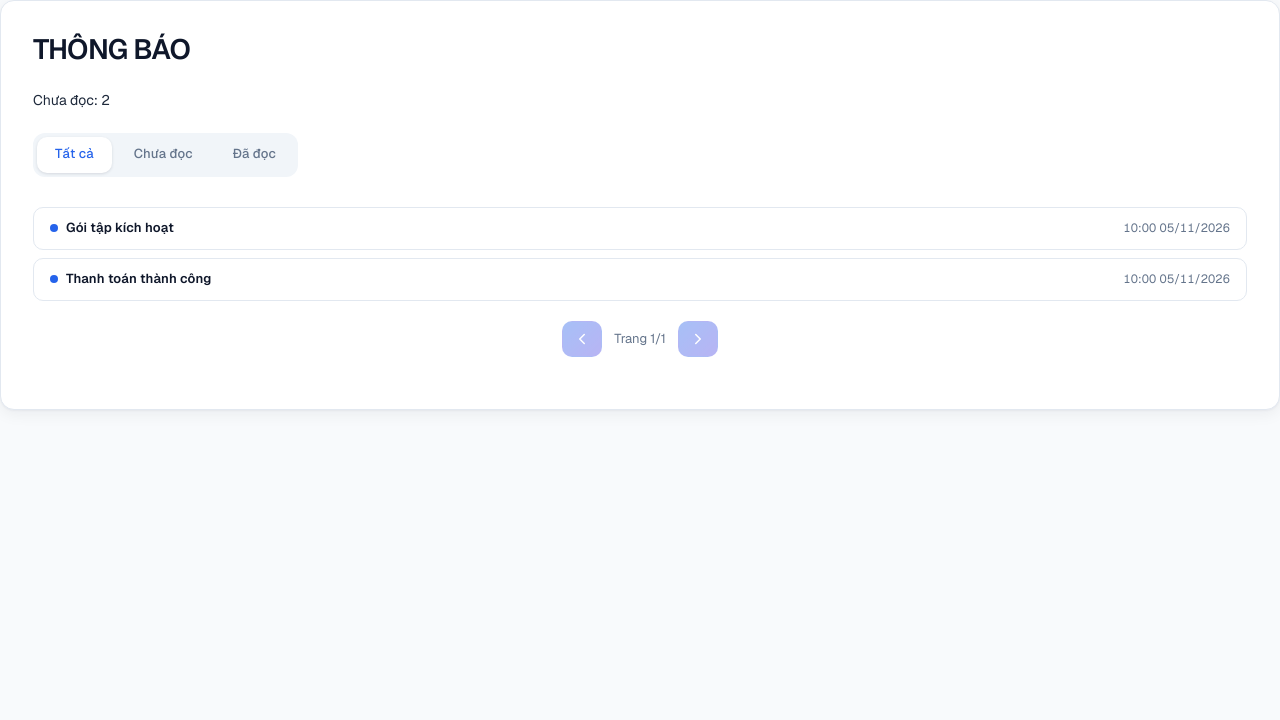
US-47 bước 3: trang inbox và badge chuông › US-47-TC07: bấm thông báo thì hiện body trước, sau đó mới mark-read và số chưa đọc lấy lại từ server
Check: the text "Chưa đọc: 2" is shown, box top-left (33, 91), bottom-right (110, 109)
Click the button "Gói tập kích hoạt 10:00 05/11/2026" at (120, 227), box top-left (33, 207), bottom-right (1247, 250)
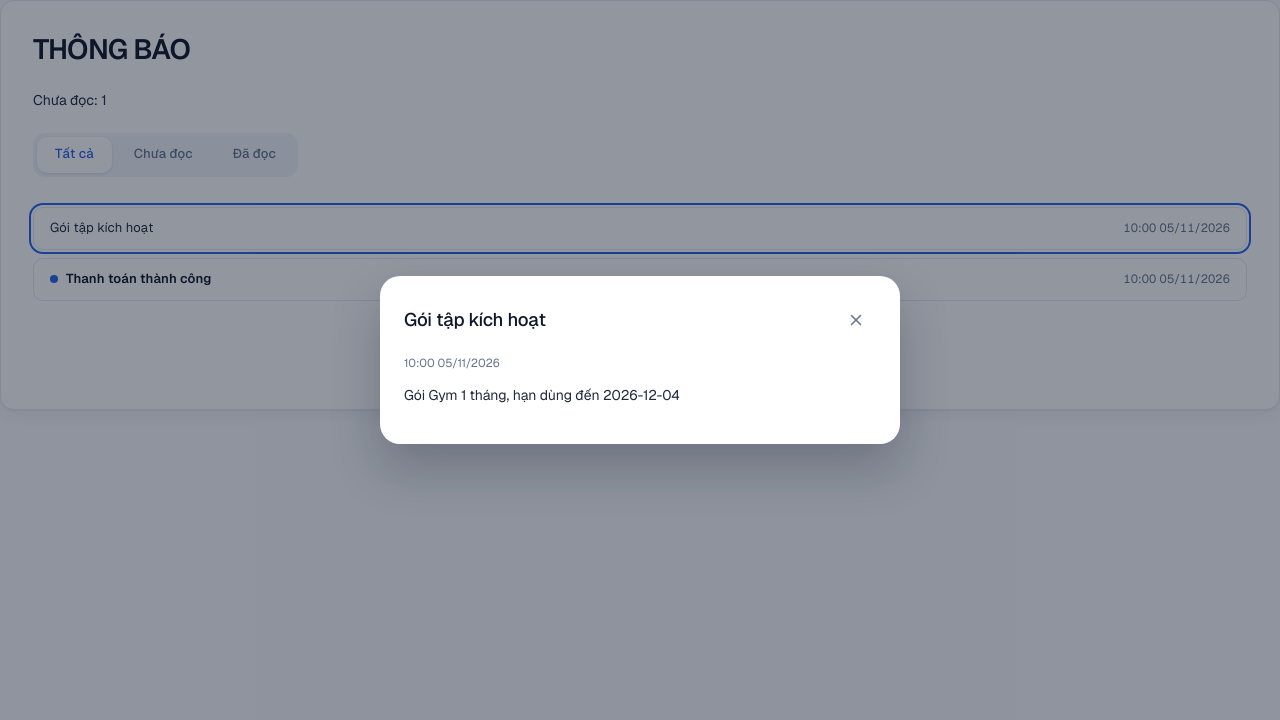
Check: the text "Gói Gym 1 tháng, hạn dùng đến 2026-12-04" is shown, box top-left (404, 386), bottom-right (680, 404)
Check: the text "Chưa đọc: 1" is shown, box top-left (33, 91), bottom-right (107, 109)
